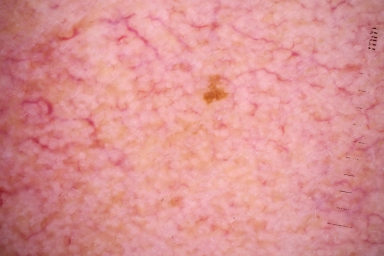seborrheic keratosis: (200, 79, 229, 106)
